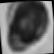correct: (0, 0, 51, 54)
